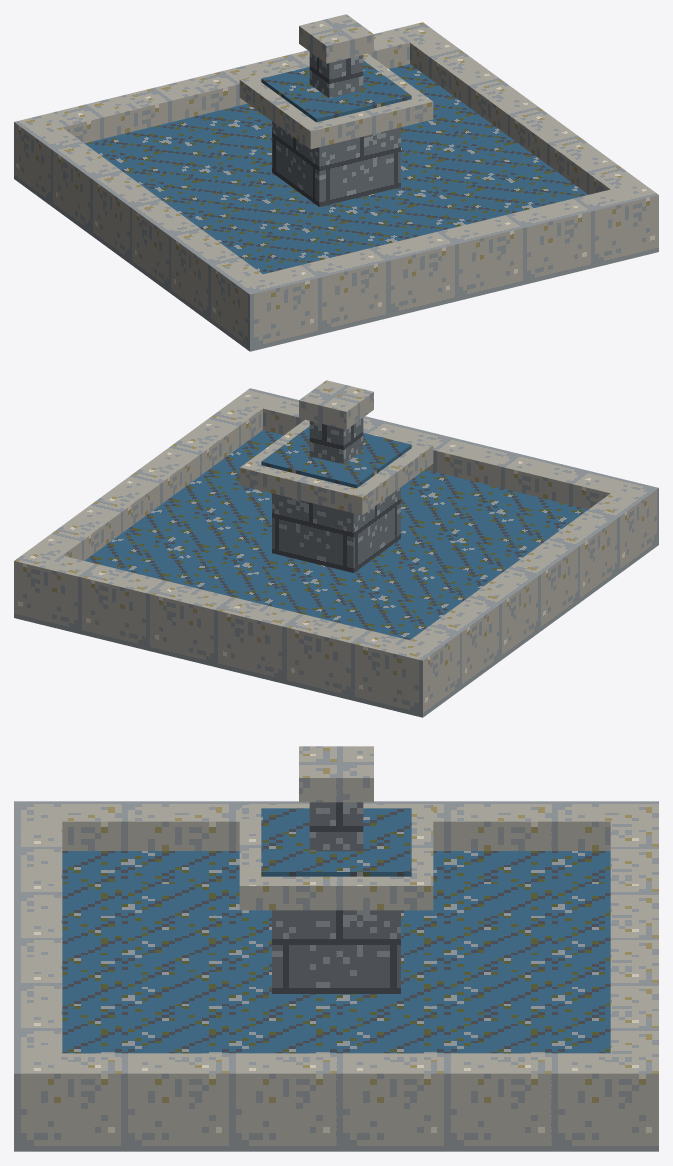
The model's file is fountain.glb.
3 views of the same model, one above another, from view 1: azimuth 30°, elevation 25°; view 2: azimuth 150°, elevation 25°; view 3: azimuth 270°, elevation 25° (orthographic). The views are drawn at different scales.
Parts seen in each view (by area): view 1: fountain; view 2: fountain; view 3: fountain.
Part boxes in pixels (bbox=[...]): fountain: bbox=[14, 14, 658, 351]; fountain: bbox=[14, 380, 658, 717]; fountain: bbox=[14, 746, 658, 1151].
Bounding box in the file's own units: 6 × 2.6 × 6.
Materials: 3 (3 with a texture image).
